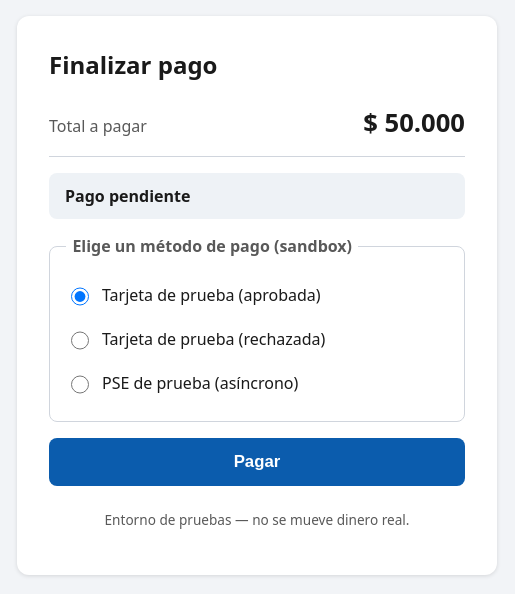
Test: CheckoutClient › lets the buyer pick the declined test method and reflects the failure
Expected: the text "$ 50.000" is shown, [363,105,465,140]
Click the radio button labelled "Tarjeta de prueba (rechazada)": coordinates (80, 340) [71,331,89,350]
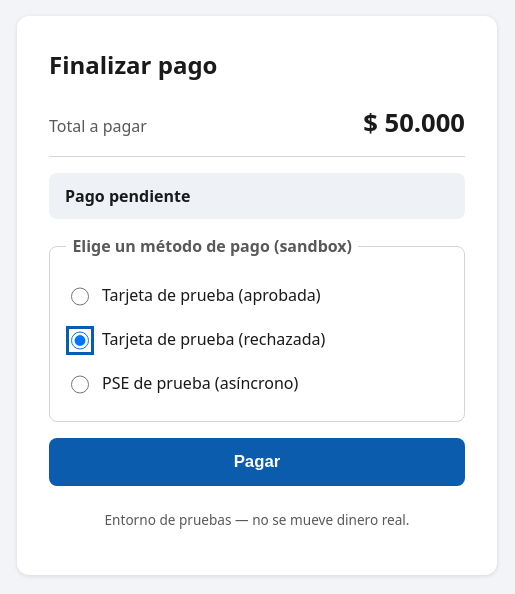
Click the button "Pagar": coordinates (257, 462) [49,438,465,486]
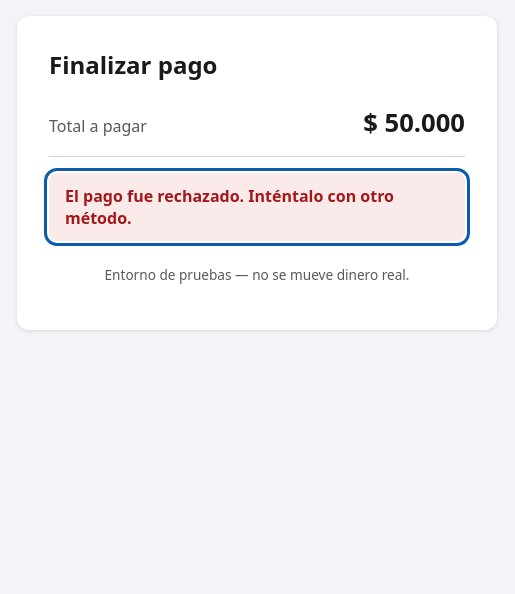
Expected: the message with test id "status" shows "rechazado", [65,185,394,229]
